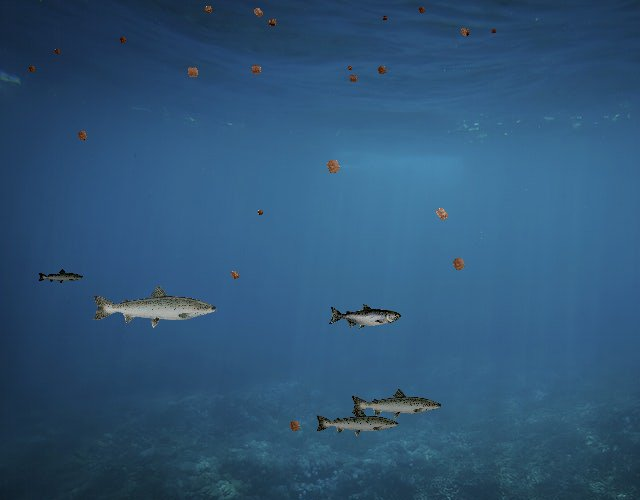Fish: (90, 283, 219, 329), (350, 388, 444, 421), (314, 407, 400, 438), (328, 304, 401, 330), (37, 269, 84, 286)
Pellet: (428, 201, 455, 228), (446, 251, 472, 277), (181, 61, 204, 84), (284, 415, 306, 437), (226, 266, 243, 284), (116, 33, 130, 47), (254, 207, 266, 219)
